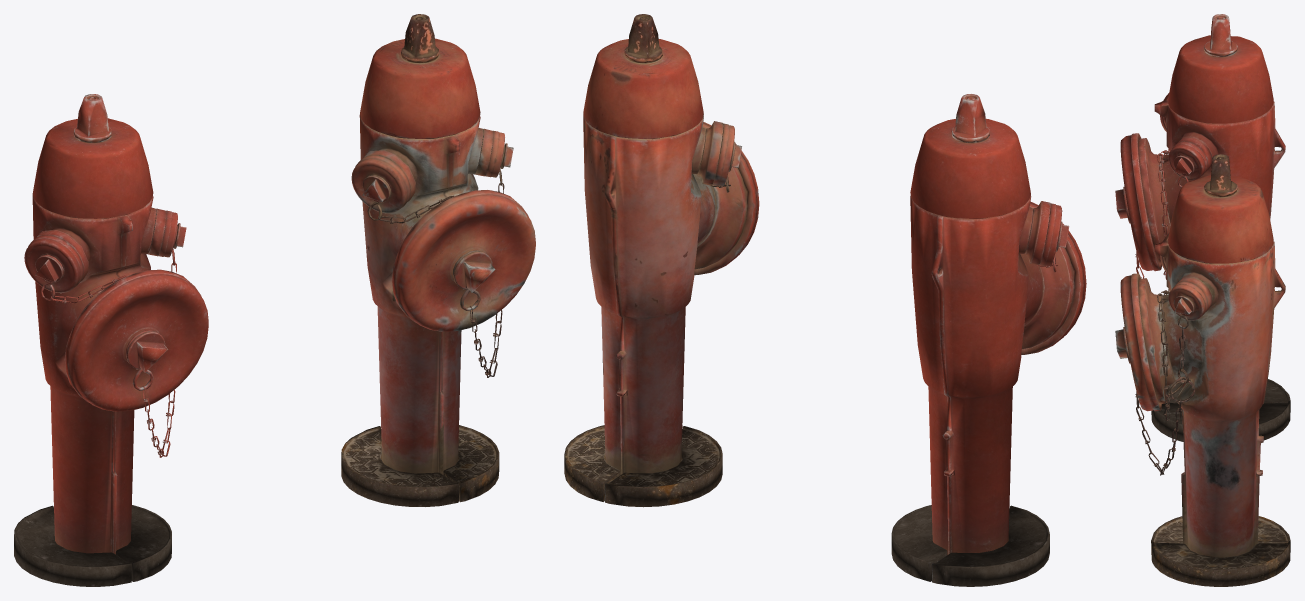
The model's file is fire_hydrant.gltf.
3 views of the same model, side by side, from view 1: azimuth 30°, elevation 25°; view 2: azimuth 150°, elevation 25°; view 3: azimuth 270°, elevation 25° (orthographic). The views are drawn at different scales.
Visible parts, largest first — view 1: fire_hydrant_aged, fire_hydrant, fire_hydrant_cap_01, fire_hydrant_cap_01_aged, fire_hydrant_cap_03, fire_hydrant_cap_03_aged, fire_hydrant_chain, fire_hydrant_chain_aged, fire_hydrant_cap_02_aged, fire_hydrant_cap_02; view 2: fire_hydrant, fire_hydrant_aged, fire_hydrant_cap_01, fire_hydrant_cap_01_aged, fire_hydrant_cap_03_aged, fire_hydrant_cap_03; view 3: fire_hydrant_aged, fire_hydrant, fire_hydrant_cap_01, fire_hydrant_cap_01_aged, fire_hydrant_chain_aged, fire_hydrant_cap_02_aged, fire_hydrant_cap_02, fire_hydrant_chain.
Part boxes in pixels (x1,y1,x2,y2): fire_hydrant_aged: (341, 14, 499, 506); fire_hydrant: (14, 94, 171, 586); fire_hydrant_cap_01: (64, 269, 208, 411); fire_hydrant_cap_01_aged: (392, 190, 535, 331); fire_hydrant_cap_03: (24, 235, 83, 293); fire_hydrant_cap_03_aged: (351, 155, 410, 213); fire_hydrant_chain: (40, 224, 177, 457); fire_hydrant_chain_aged: (367, 145, 504, 377); fire_hydrant_cap_02_aged: (485, 130, 513, 177); fire_hydrant_cap_02: (158, 210, 186, 257); fire_hydrant: (891, 94, 1074, 586); fire_hydrant_aged: (564, 14, 747, 507); fire_hydrant_cap_01: (1021, 202, 1086, 354); fire_hydrant_cap_01_aged: (694, 122, 759, 275); fire_hydrant_cap_03_aged: (712, 123, 741, 186); fire_hydrant_cap_03: (1039, 203, 1069, 266); fire_hydrant_aged: (1138, 154, 1290, 586); fire_hydrant: (1138, 14, 1290, 441); fire_hydrant_cap_01: (1115, 133, 1161, 271); fire_hydrant_cap_01_aged: (1115, 273, 1161, 411); fire_hydrant_chain_aged: (1135, 289, 1195, 475); fire_hydrant_cap_02_aged: (1168, 281, 1208, 320); fire_hydrant_cap_02: (1168, 141, 1208, 180); fire_hydrant_chain: (1135, 149, 1193, 279).
Size of the model in its own units: 0.8746 by 0.7994 by 0.3173.
Materials: 2 (2 with a texture image).
